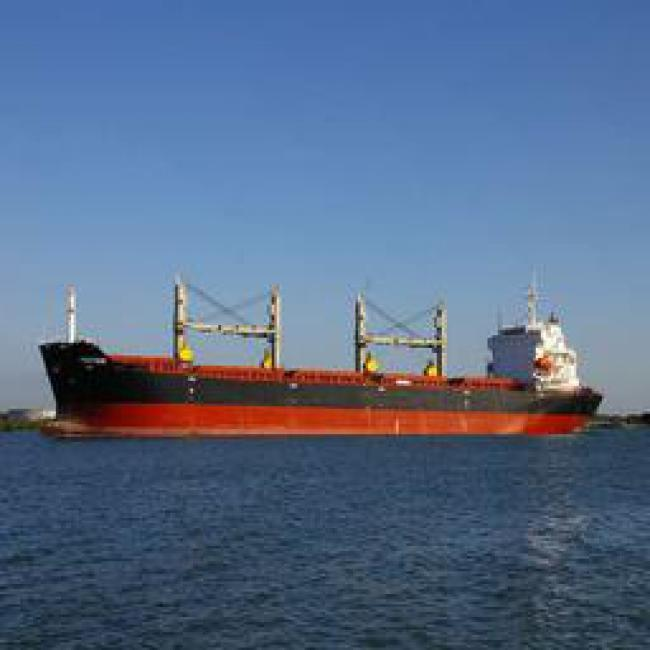Ship: (32, 271, 601, 436)
